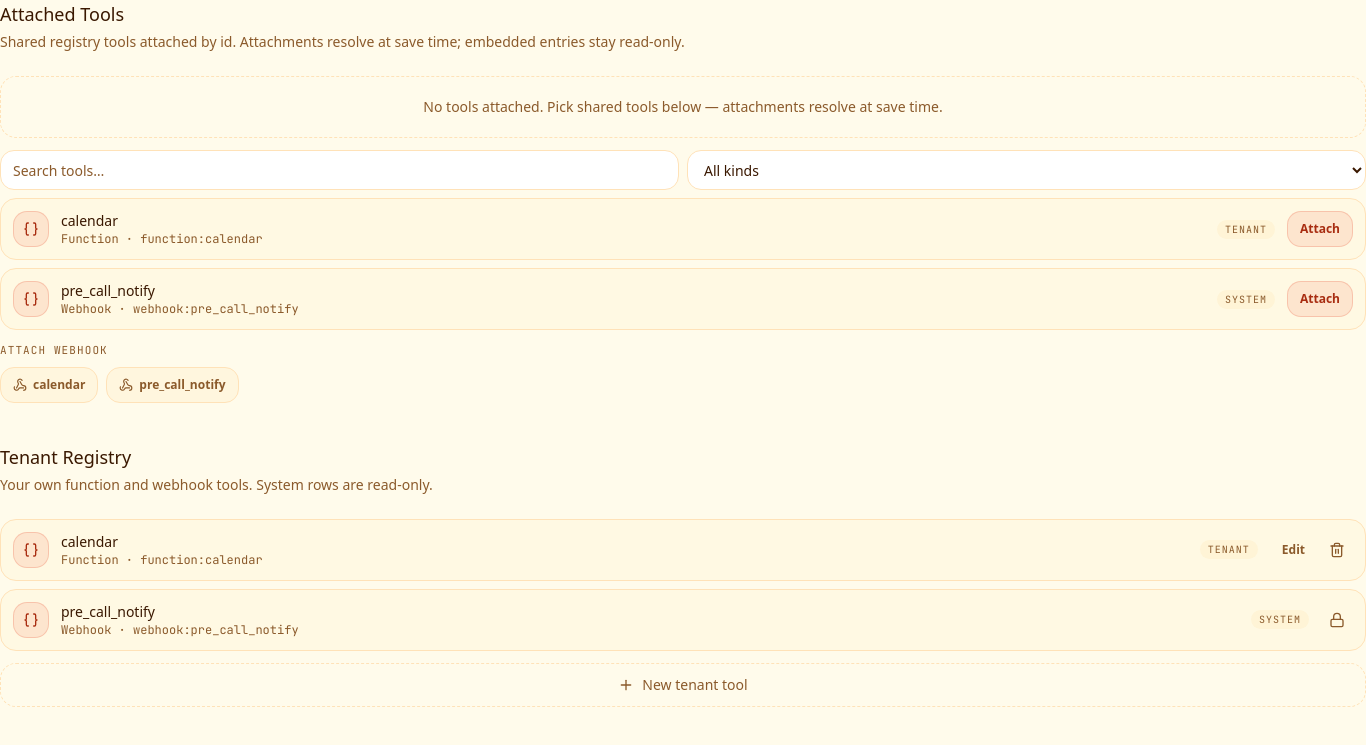
it: ToolsConfigForm picker (spec 0029 slice 3) › attaches webhooks by name with the row ref
Click the button "pre_call_notify" at (172, 384), box [106,366,239,402]
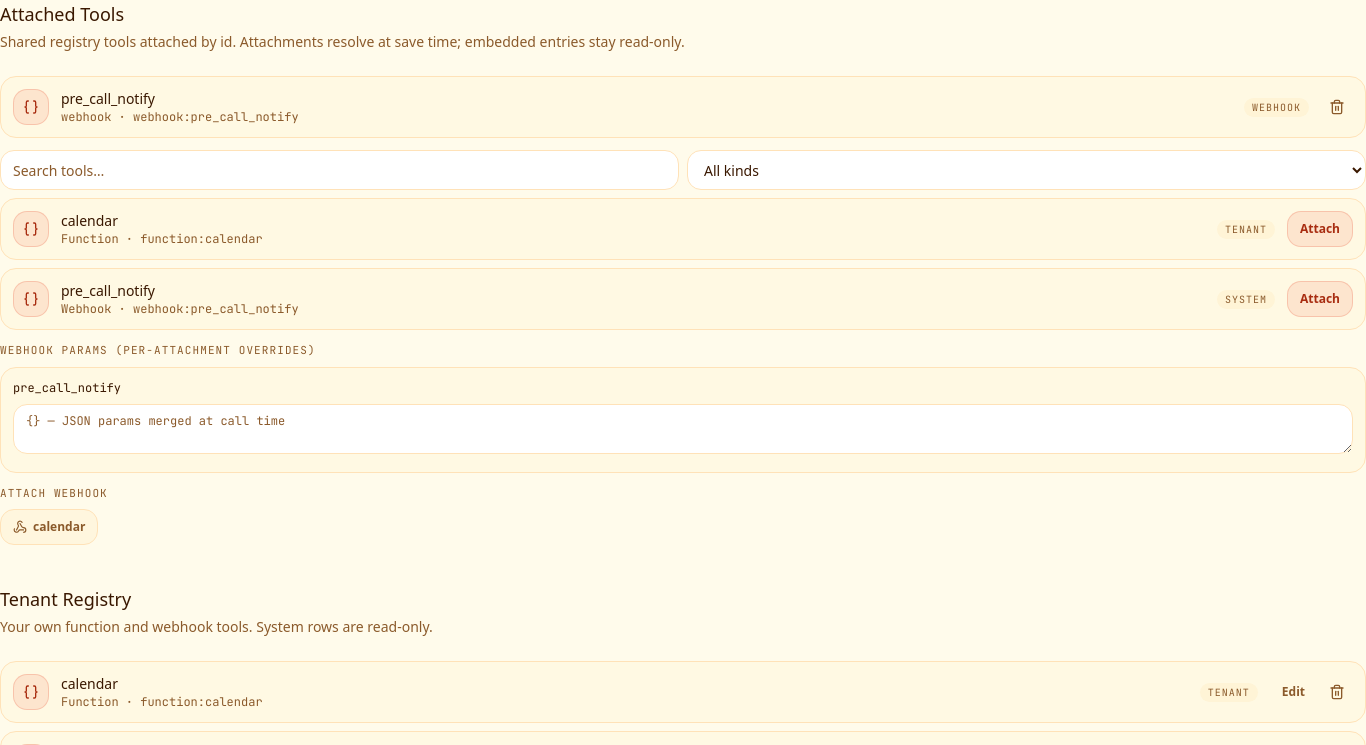
Now the button named "Remove webhook pre_call_notify" is shown, box [1321,91,1353,123]
